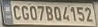character: (61, 6, 71, 22), (53, 5, 62, 22), (36, 4, 44, 21), (13, 5, 22, 20), (28, 5, 37, 20), (76, 6, 85, 21), (84, 7, 93, 22), (45, 5, 53, 21), (69, 6, 77, 21), (21, 5, 29, 19)
